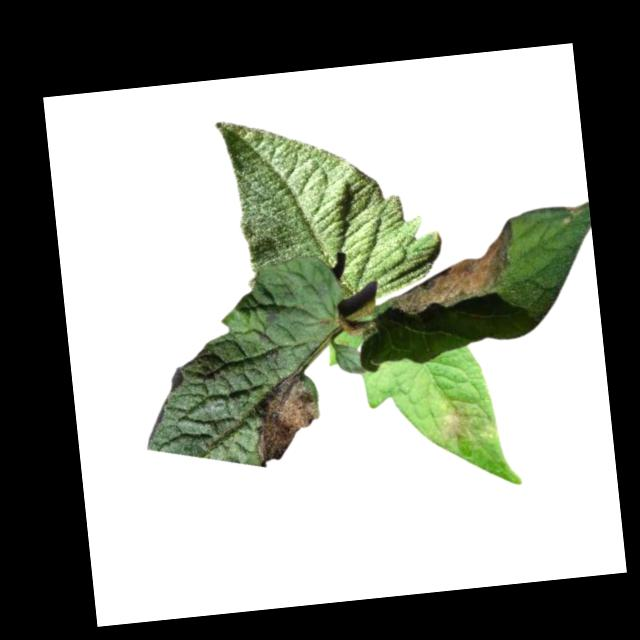Late_blight: (385, 219, 523, 316), (248, 369, 327, 468), (437, 398, 474, 445), (564, 203, 587, 219)
